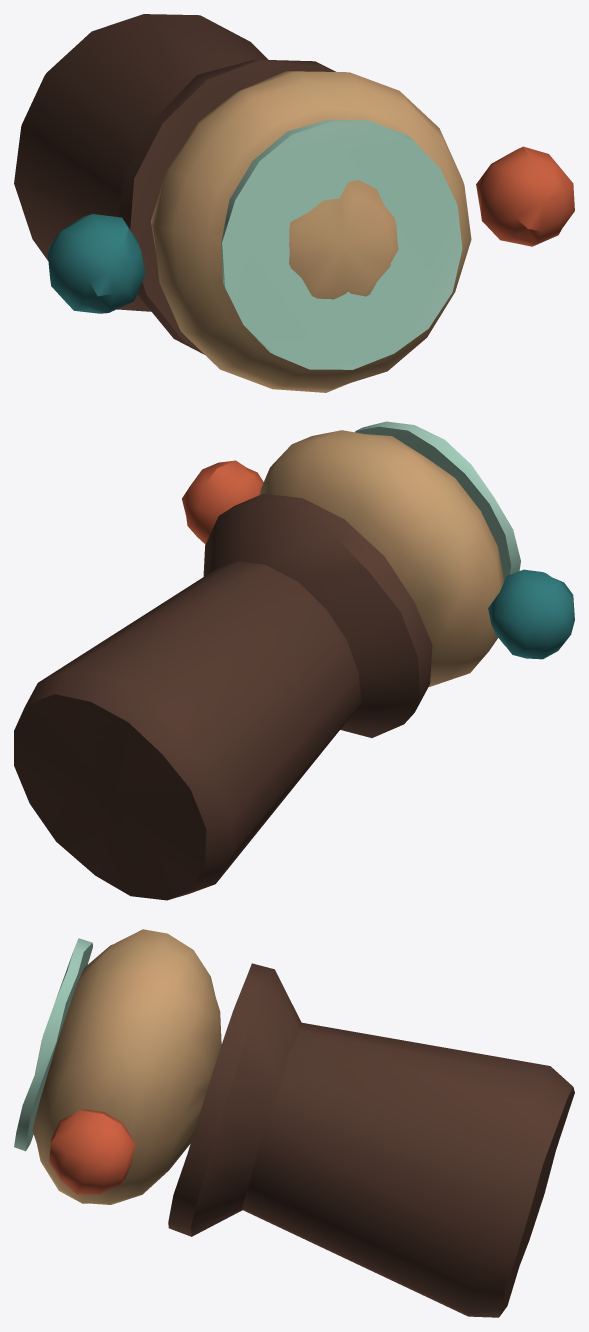
Rendered from find_compass.glb.
The picture shows the model from 3 angles, top to bottom: view 1: azimuth 30°, elevation 25°; view 2: azimuth 150°, elevation 25°; view 3: azimuth 270°, elevation 25°; orthographic projection. The views are drawn at different scales.
Parts seen in each view (by area): view 1: find_compass; view 2: find_compass; view 3: find_compass.
Part boxes in pixels (x1=…): find_compass: x1=14, y1=14, x2=574, y2=392; find_compass: x1=14, y1=421, x2=574, y2=900; find_compass: x1=14, y1=929, x2=574, y2=1317.
Bounding box in the file's own units: 0.8663 × 0.6745 × 1.01.
